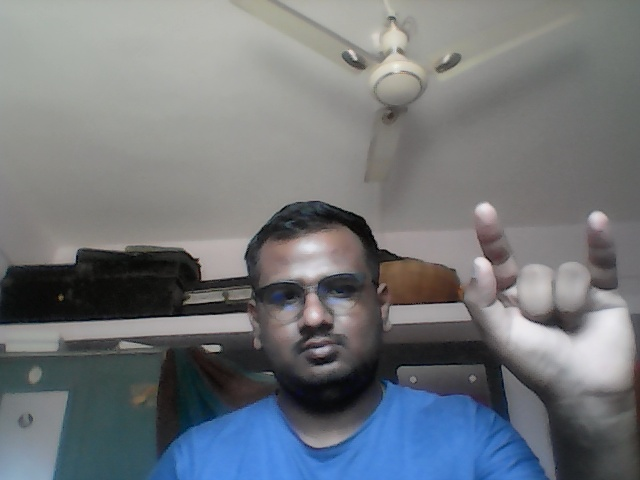I Love You: (460, 200, 638, 392)
